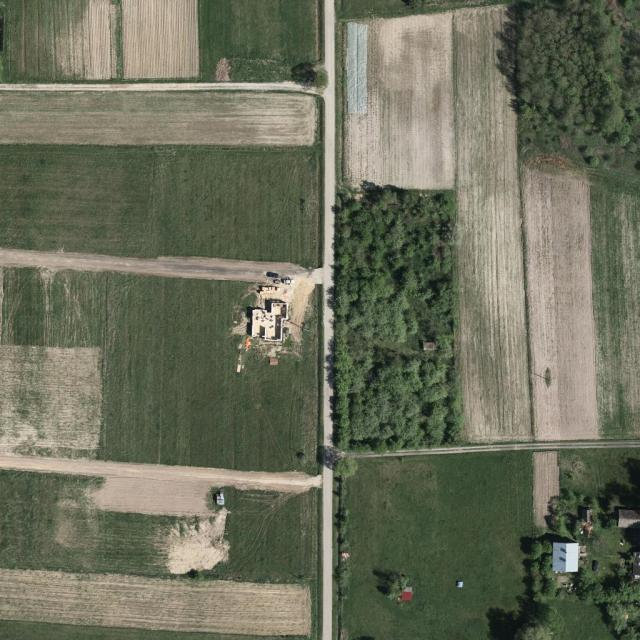agricultural_land: (339, 0, 640, 444)
building: (237, 277, 300, 362), (550, 541, 587, 581), (617, 502, 640, 541)
greenland: (345, 198, 454, 452)
